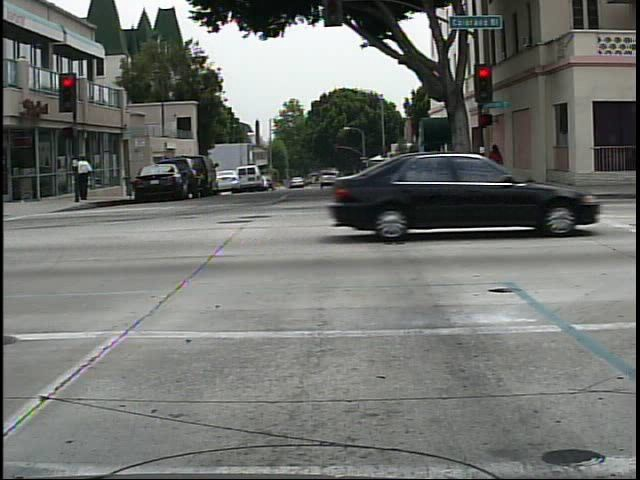person: (481, 138, 511, 191), (78, 148, 99, 204)
